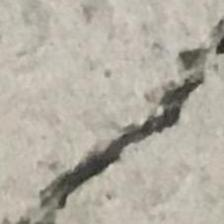Crack: (37, 19, 224, 224)
